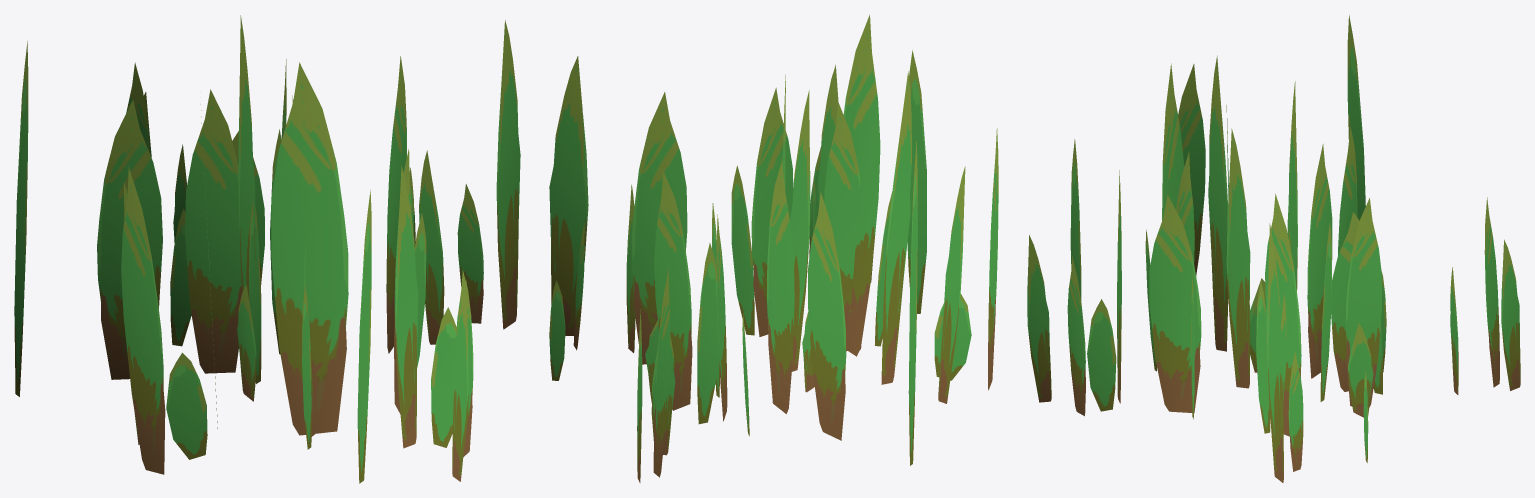
Rendered from Grass_A.fbx.
3 renders of one model, left to right at view 1: azimuth 30°, elevation 25°; view 2: azimuth 150°, elevation 25°; view 3: azimuth 270°, elevation 25°, orthographic. The views are drawn at different scales.
Visible parts, largest first — view 1: Grass_A.001; view 2: Grass_A.001; view 3: Grass_A.001.
Part boxes in pixels (bbox=[...]): Grass_A.001: bbox=[14, 15, 520, 483]; Grass_A.001: bbox=[549, 14, 998, 482]; Grass_A.001: bbox=[1027, 15, 1520, 482].
Size of the model in its own units: 49.69 by 39.75 by 57.64.
